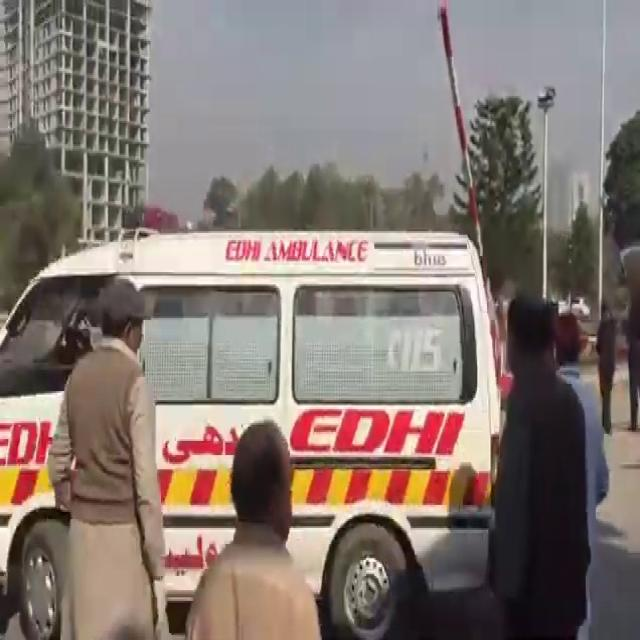ambulance: (7, 232, 522, 605)
